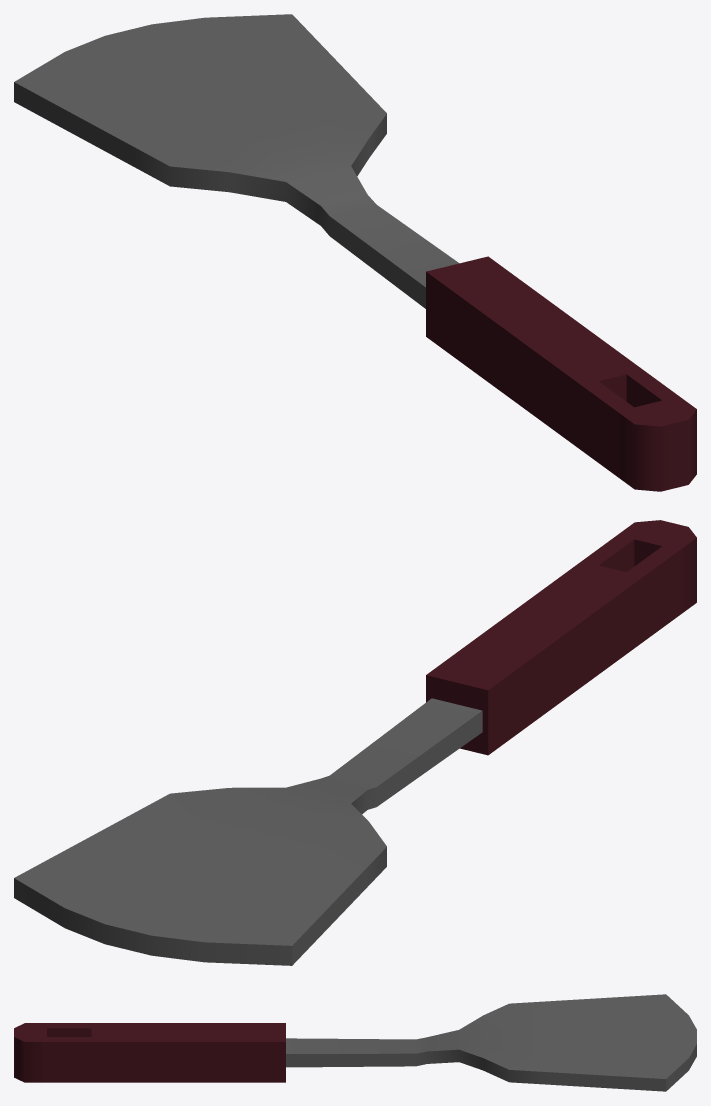
Rendered from utensil_spatula.fbx.
3 views of the same model, one above another, from view 1: azimuth 30°, elevation 25°; view 2: azimuth 150°, elevation 25°; view 3: azimuth 270°, elevation 25° (orthographic). The views are drawn at different scales.
Visible parts, largest first — view 1: spatula; view 2: spatula; view 3: spatula.
Boxes of the visible parts, x1,y1,x2,y2 form: spatula: (14, 14, 696, 491); spatula: (14, 520, 696, 965); spatula: (14, 994, 696, 1091).
Bounding box in the file's own units: 102 × 22.79 × 346.
